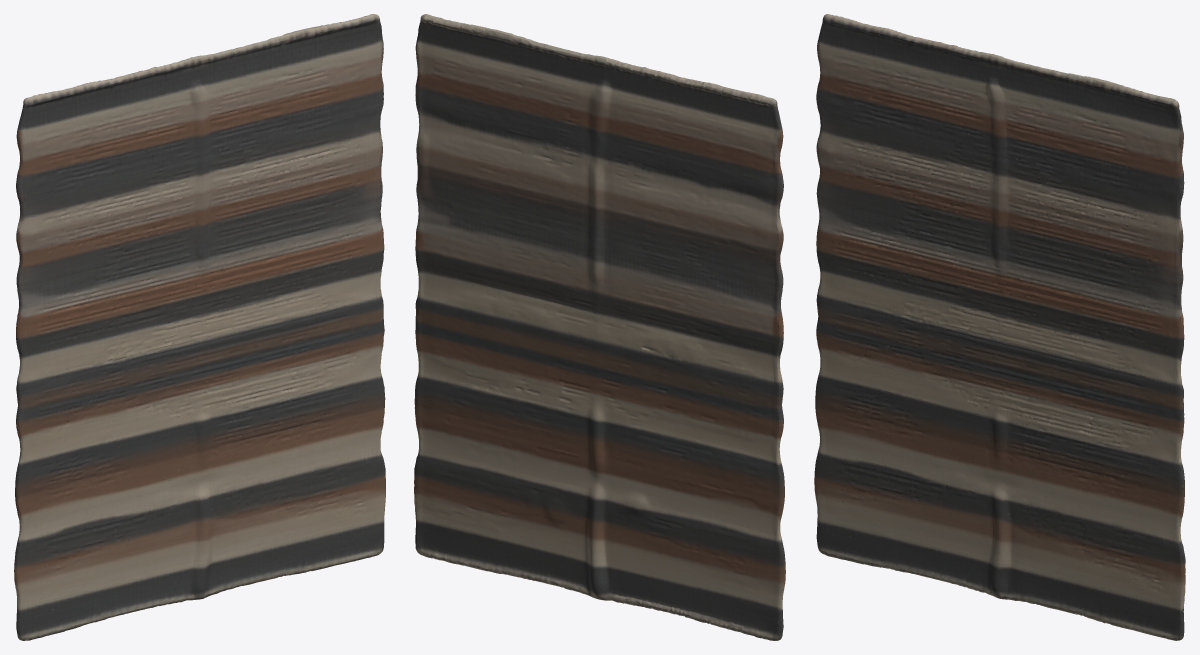
Rendered from item_041f365d.glb.
The picture shows the model from 3 angles, left to right: view 1: azimuth 30°, elevation 25°; view 2: azimuth 150°, elevation 25°; view 3: azimuth 330°, elevation 25°; orthographic projection.
Parts seen in each view (by area): view 1: world; view 2: world; view 3: world.
Boxes of the visible parts, x1,y1,x2,y2 form: world: (14,14,385,640); world: (414,14,785,640); world: (814,14,1185,640).
Bounding box in the file's own units: 1.7 × 2.38 × 0.0642.
1 material, 1 textured.
